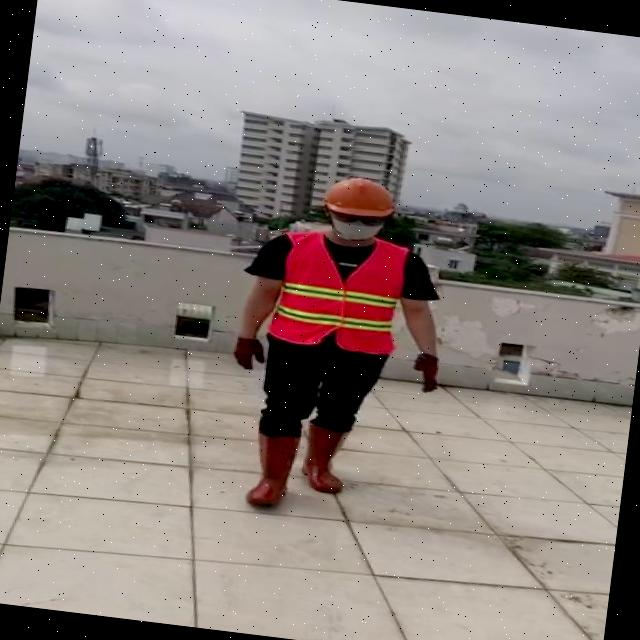boots: (244, 431, 298, 514), (298, 422, 352, 494)
